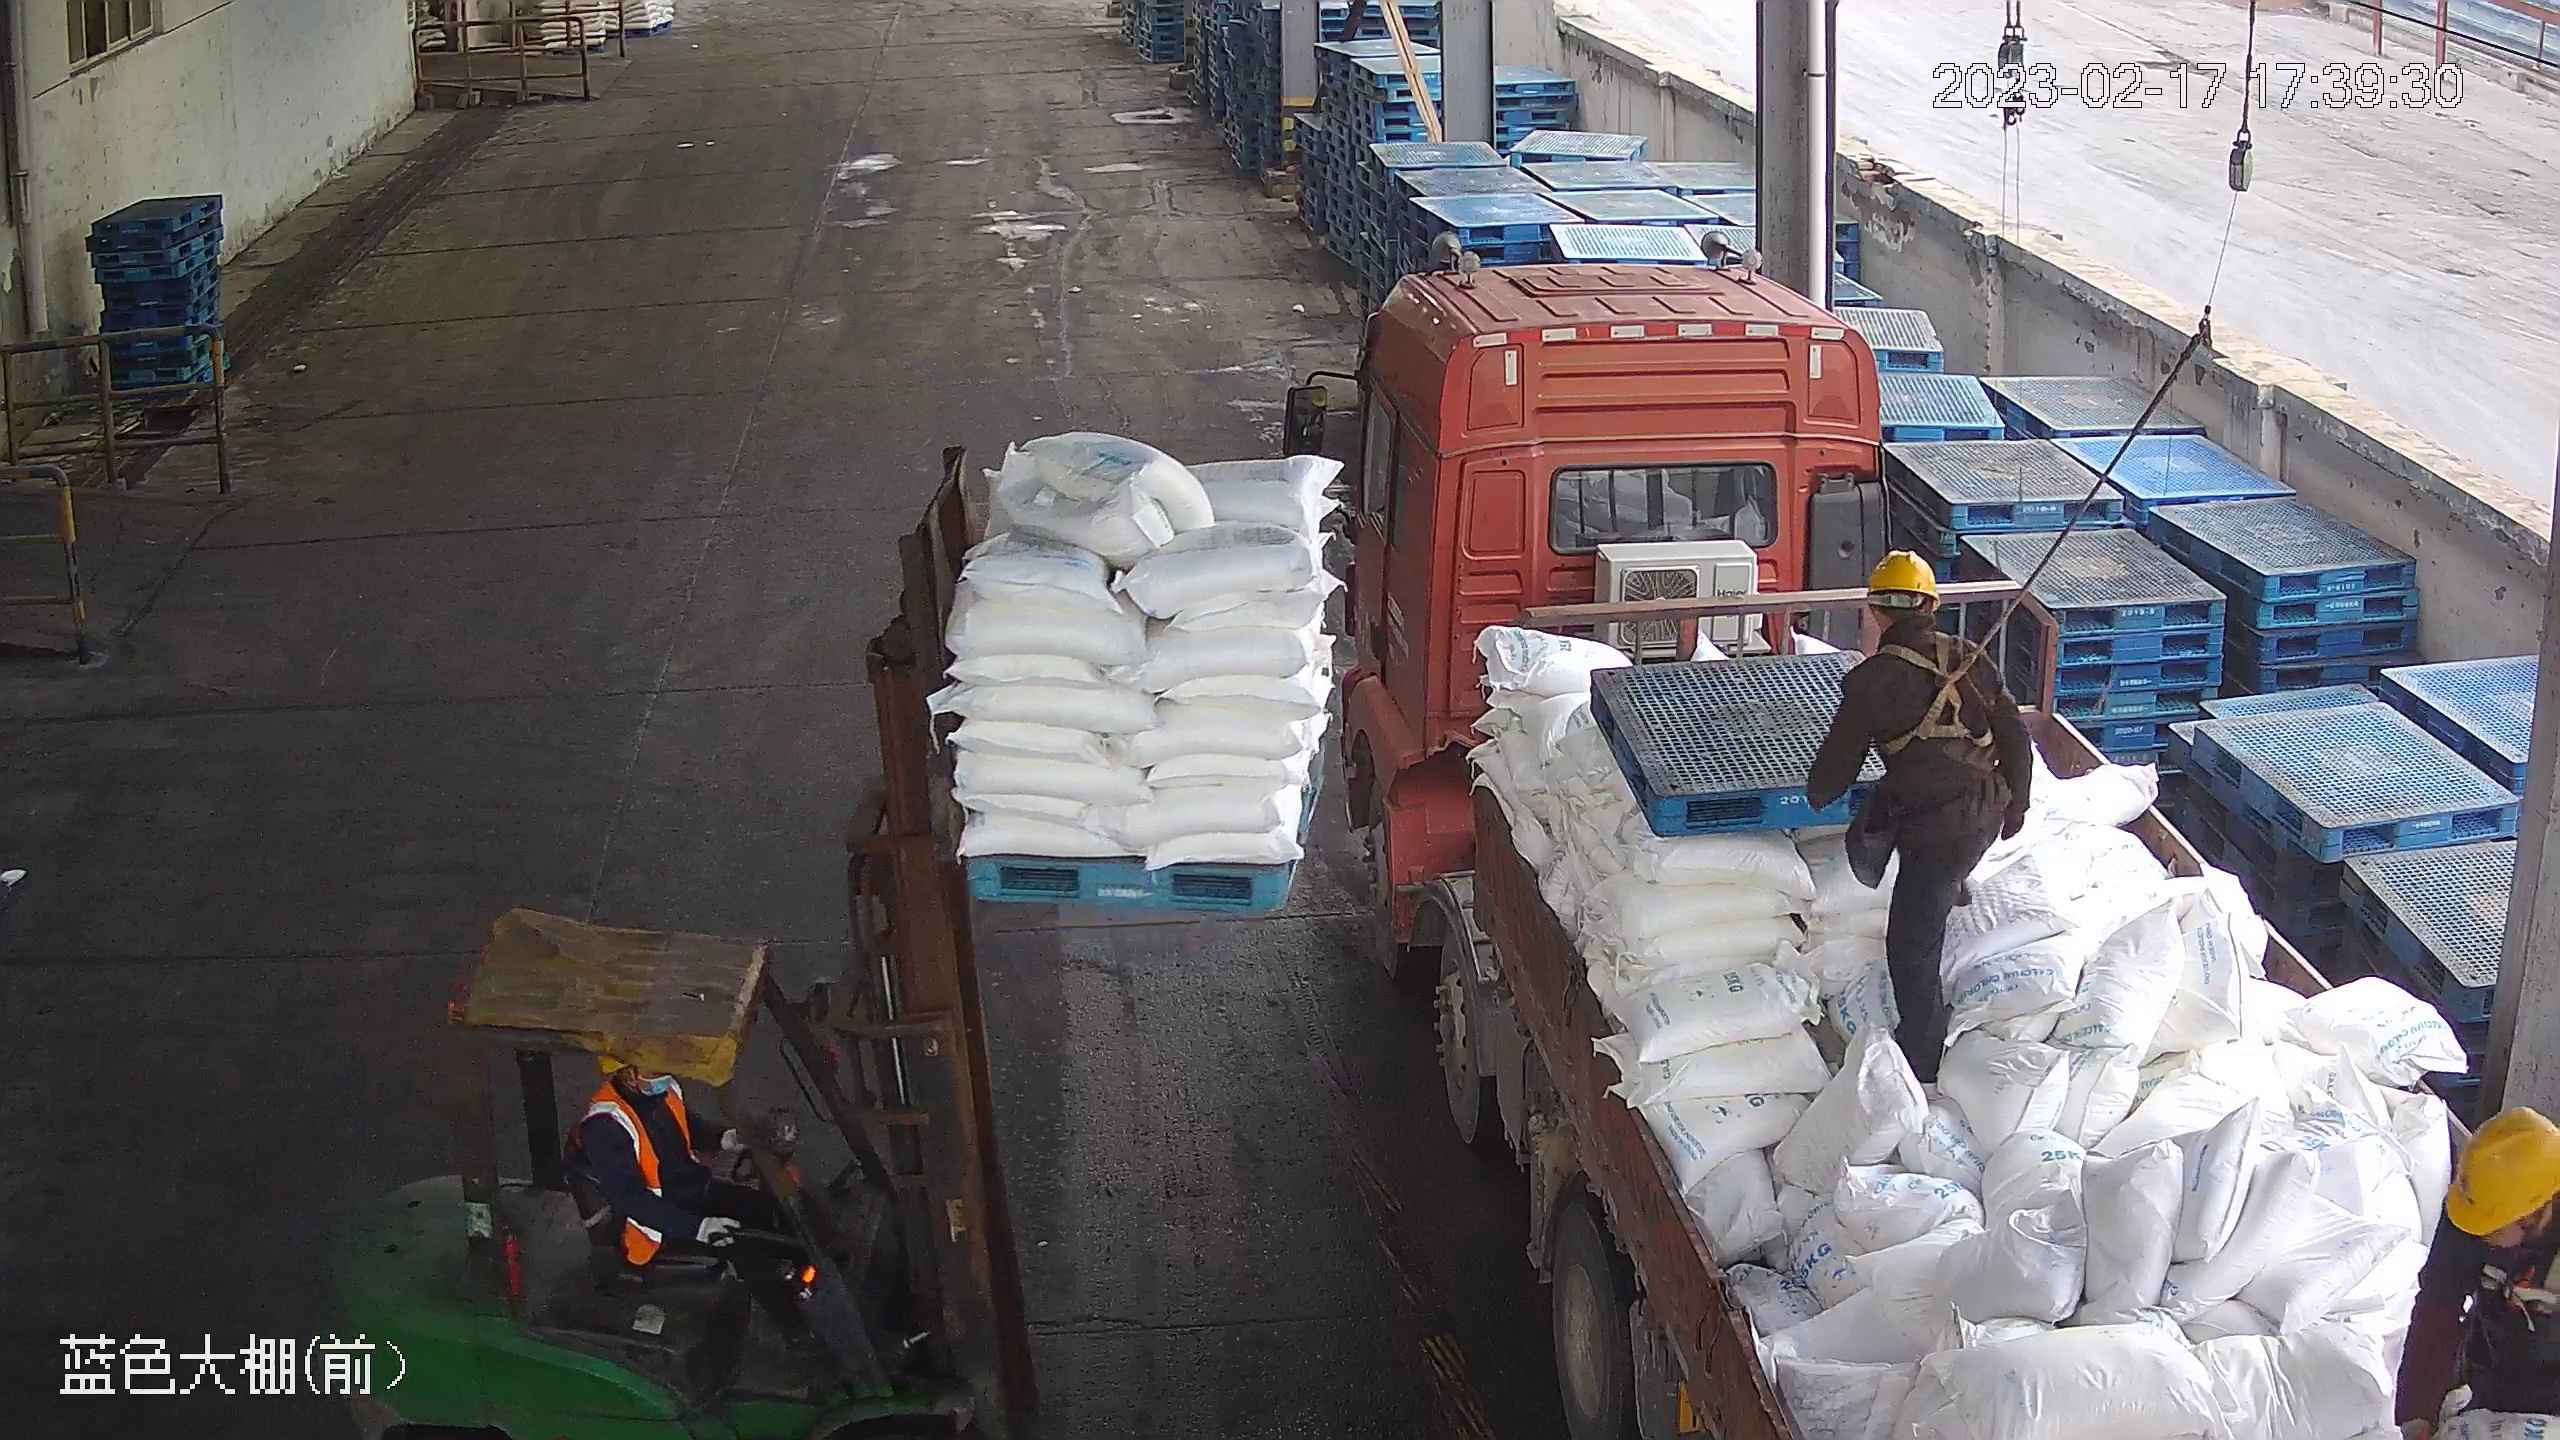belt: (1870, 623, 1992, 755), (2480, 1181, 2560, 1327)
head: (2422, 1103, 2560, 1343), (1841, 547, 1995, 717)
helmet: (2446, 1102, 2559, 1232), (1860, 547, 1940, 603)
people: (1807, 547, 2027, 1090), (563, 1049, 814, 1360)
truck: (1274, 223, 2553, 1431)
